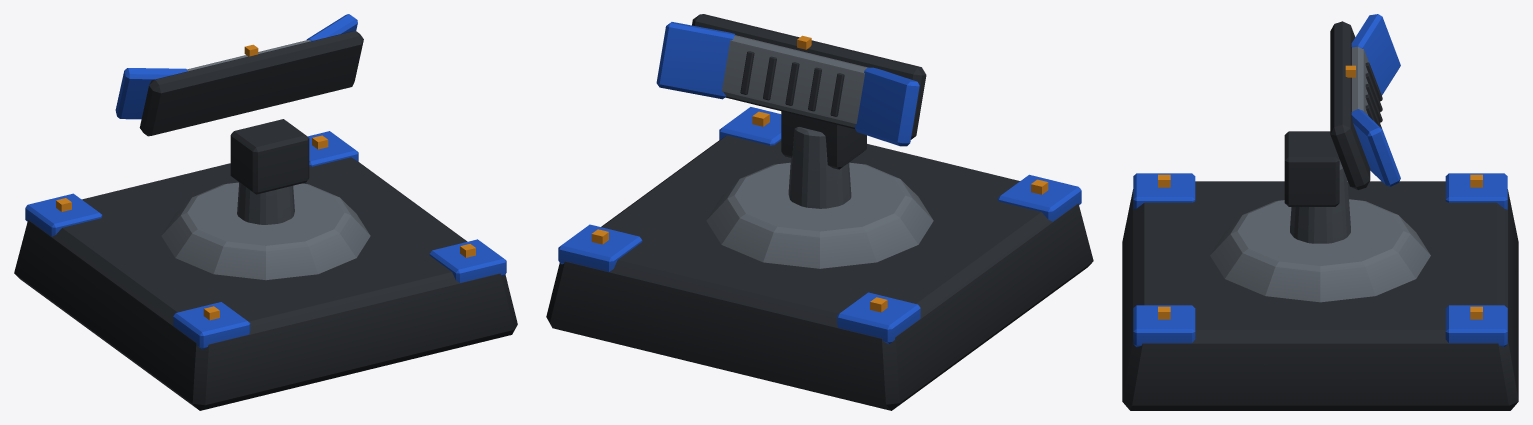
The model's file is radar.glb.
3 views of the same model, side by side, from view 1: azimuth 30°, elevation 25°; view 2: azimuth 150°, elevation 25°; view 3: azimuth 270°, elevation 25° (orthographic). The views are drawn at different scales.
Visible parts, largest first — view 1: hull, turret; view 2: hull, turret; view 3: hull, turret.
Boxes of the visible parts, x1=… form: hull: x1=14, y1=131, x2=517, y2=410; turret: x1=115, y1=14, x2=363, y2=224; hull: x1=546, y1=107, x2=1093, y2=410; turret: x1=656, y1=14, x2=926, y2=208; hull: x1=1122, y1=173, x2=1518, y2=410; turret: x1=1284, y1=14, x2=1400, y2=243.
Bounding box in the file's own units: 0.863 × 0.6312 × 0.863.
